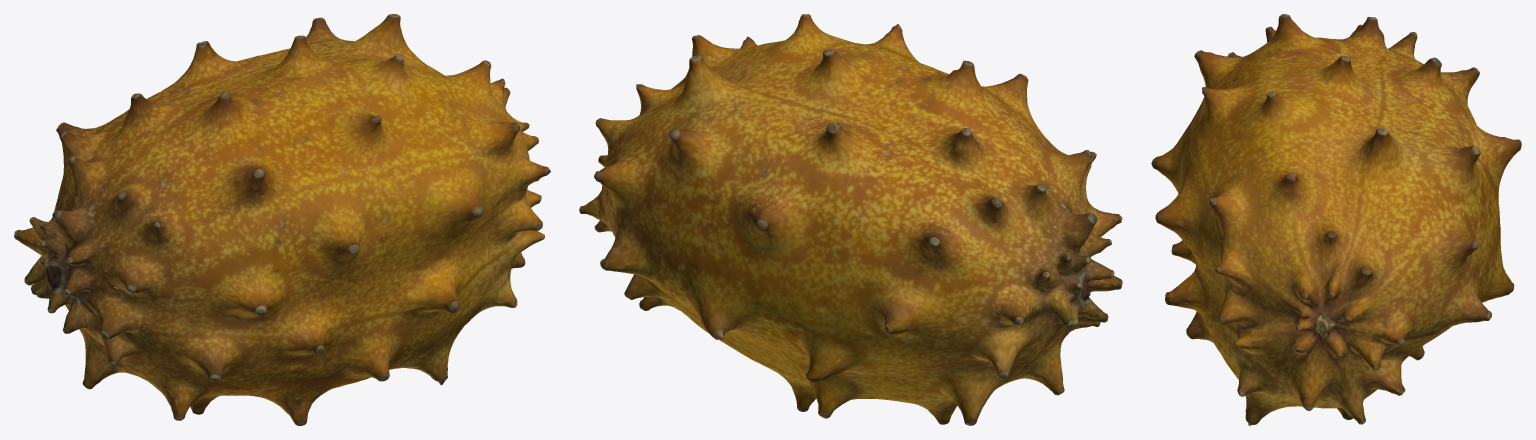
File: melon.glb
3 renders of one model, left to right at view 1: azimuth 30°, elevation 25°; view 2: azimuth 150°, elevation 25°; view 3: azimuth 270°, elevation 25°, orthographic. The views are drawn at different scales.
Visible parts, largest first — view 1: Object_2; view 2: Object_2; view 3: Object_2.
Part boxes in pixels (<box>): Object_2: <box>14,14,550,425</box>; Object_2: <box>579,14,1122,425</box>; Object_2: <box>1151,14,1521,425</box>.
Size of the model in its own units: 94.75 by 67.24 by 64.3.
Materials: 1 (1 with a texture image).
